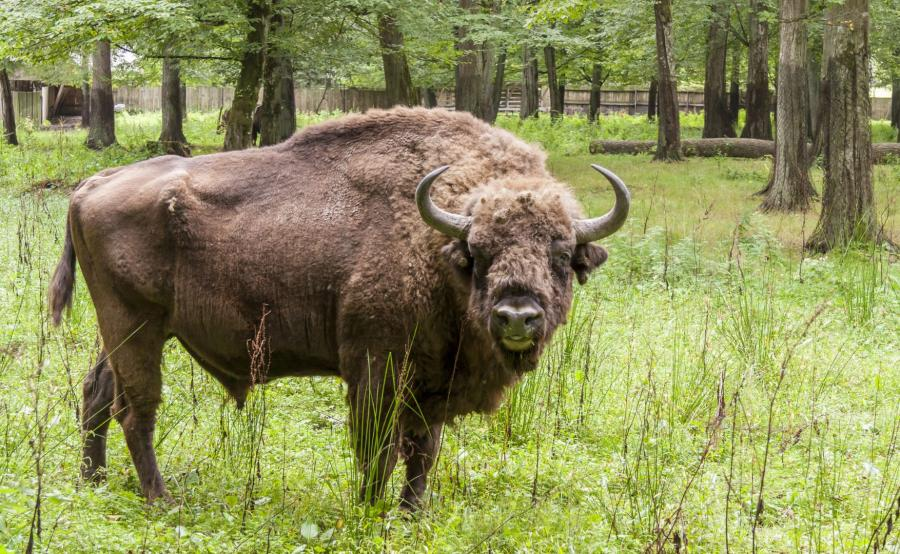zubr: (34, 113, 642, 505)
